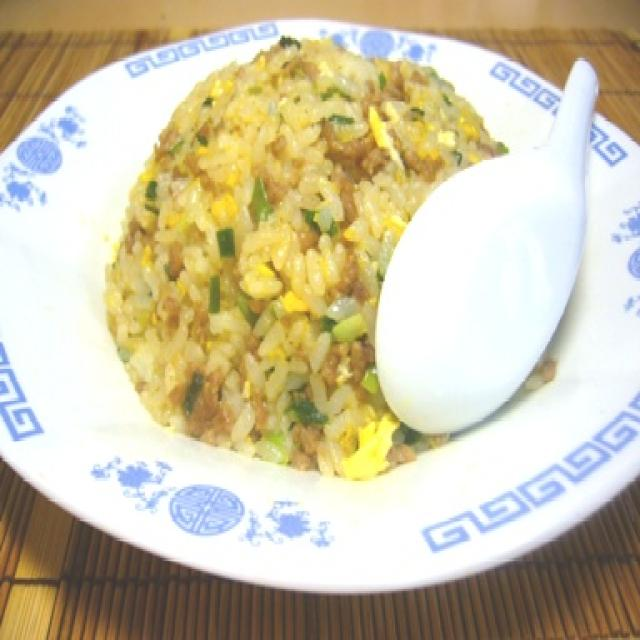米饭主食: (0, 18, 640, 609)
